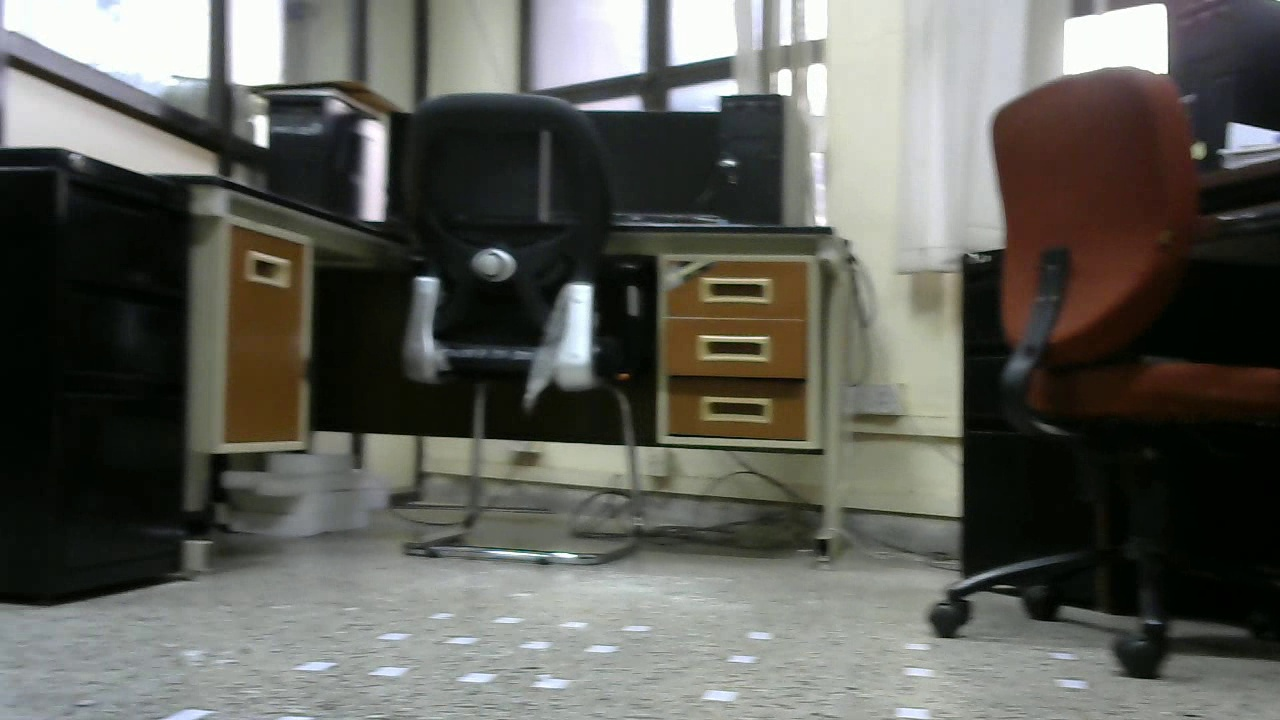chair: (929, 65, 1280, 675), (398, 86, 647, 567)
